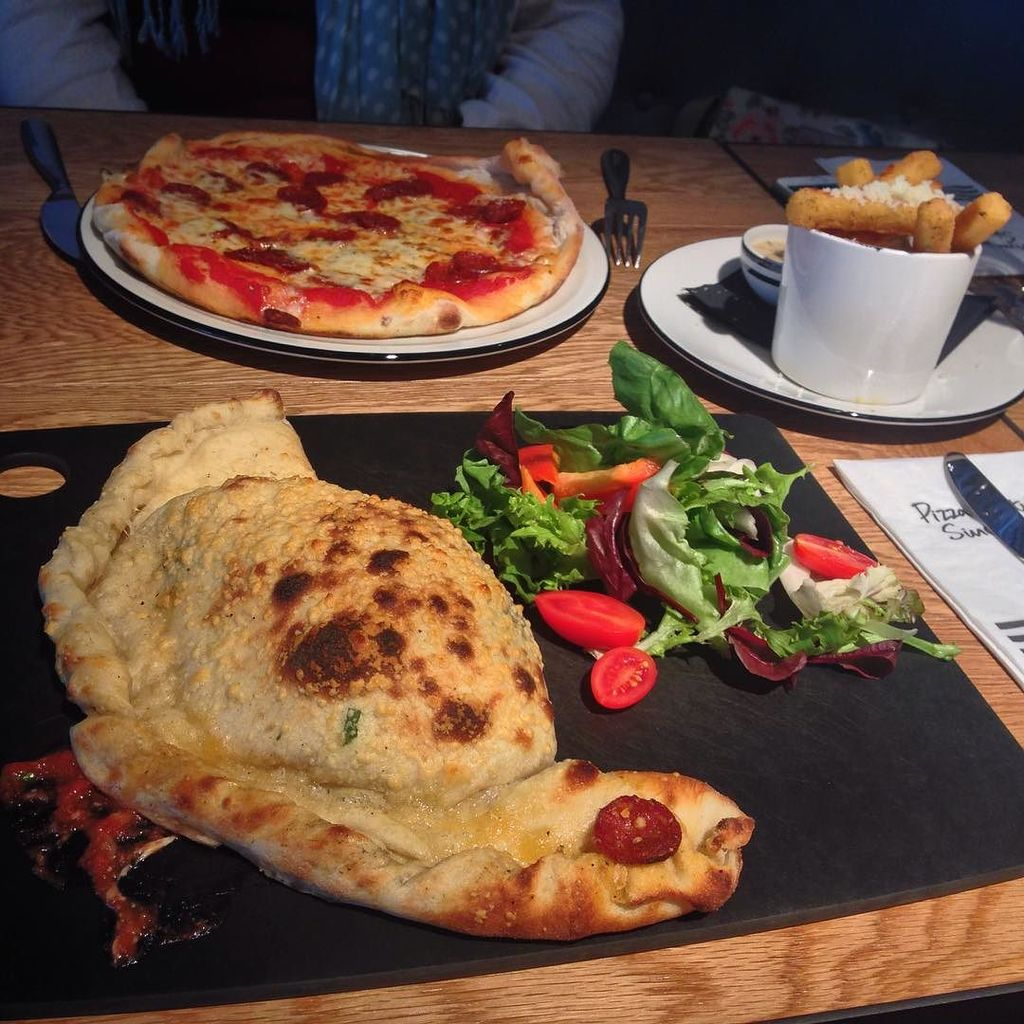French fries: (780, 135, 1000, 264)
